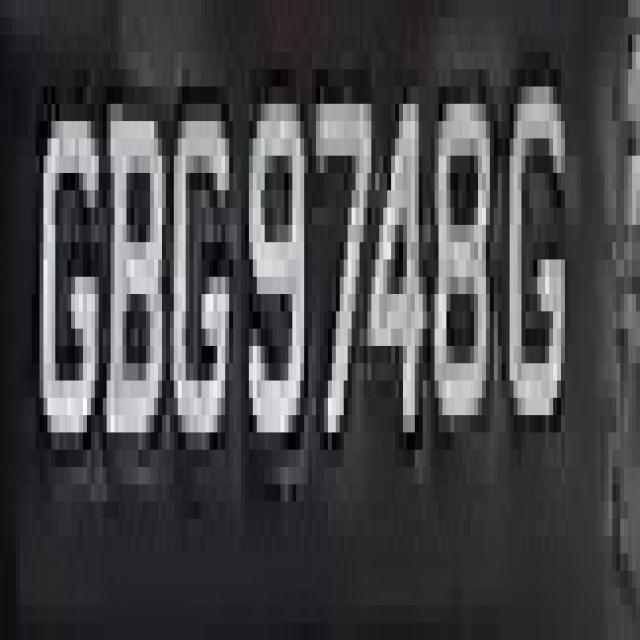4: (364, 34, 426, 502)
7: (296, 17, 376, 519)
8: (426, 86, 502, 502)
9: (229, 35, 312, 536)
B: (107, 86, 162, 502)
G: (27, 52, 94, 502), (502, 87, 577, 467), (166, 87, 237, 467)
